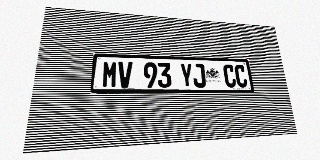3: (157, 62, 171, 88)
9: (144, 62, 158, 88)
C: (223, 64, 237, 87), (234, 65, 248, 87)
J: (192, 63, 206, 88)
M: (102, 61, 118, 88)
V: (117, 61, 132, 88)
Y: (179, 63, 193, 88)
